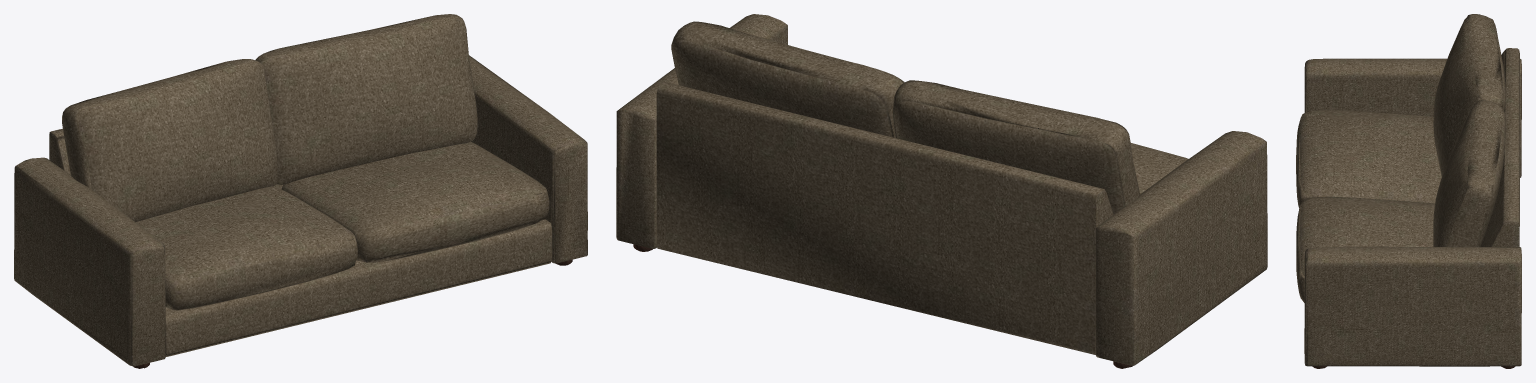
Rendered from abo-B07QFP4M7W.glb.
3 views of the same model, side by side, from view 1: azimuth 30°, elevation 25°; view 2: azimuth 150°, elevation 25°; view 3: azimuth 270°, elevation 25° (orthographic). The views are drawn at different scales.
Visible parts, largest first — view 1: RootNode; view 2: RootNode; view 3: RootNode.
Boxes of the visible parts, x1,y1,x2,y2 form: RootNode: (14,14,587,368); RootNode: (616,14,1267,368); RootNode: (1296,14,1521,368).
Bounding box in the file's own units: 2.18 × 0.8723 × 1.02.
1 material, 1 textured.
